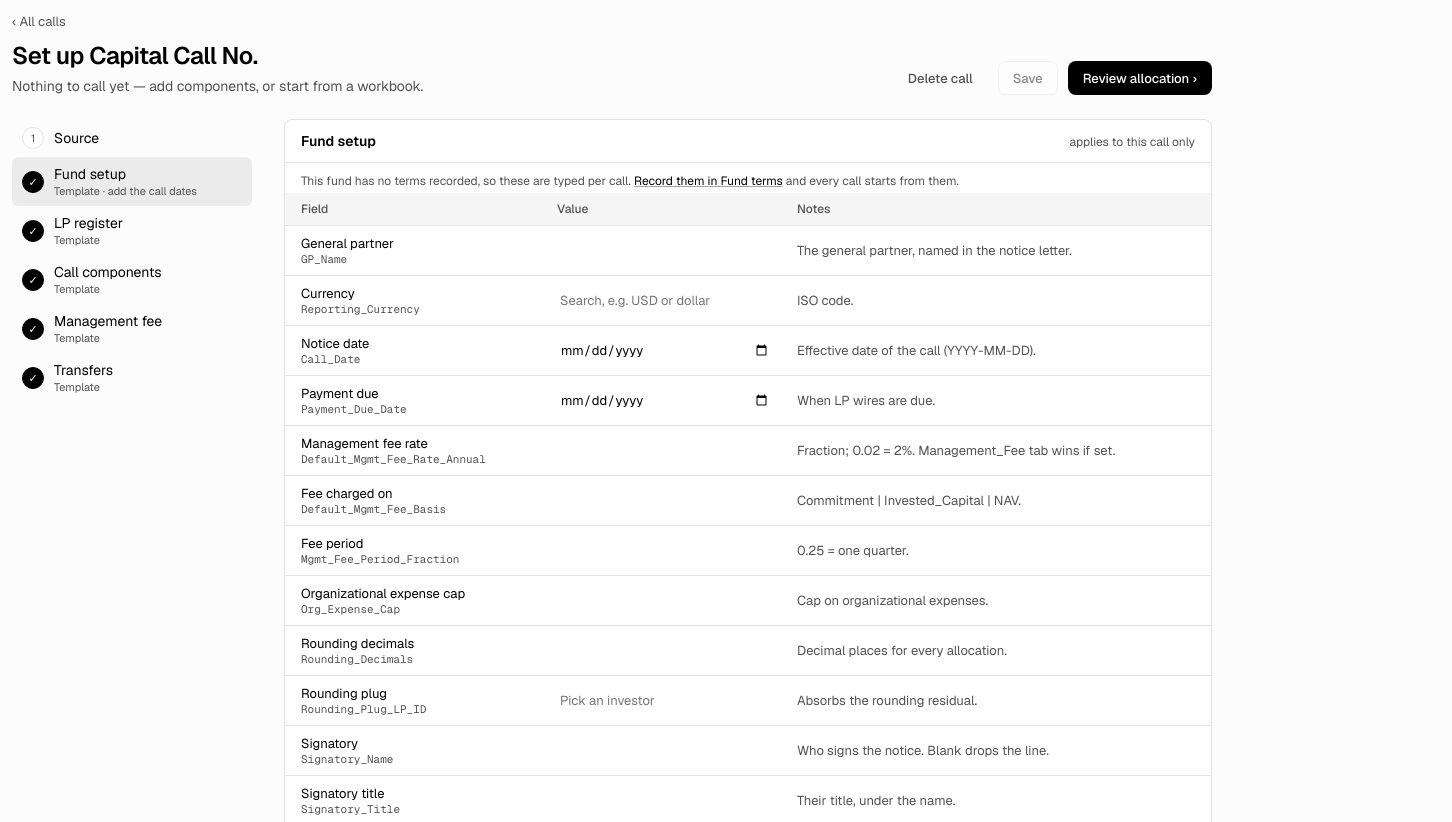
Test: the rounding plug, before the register is filled in › offers the fund’s investors
Click the dropdown named "Rounding_Plug_LP_ID" at (665, 700), box x1=551 y1=686 x2=779 y2=716
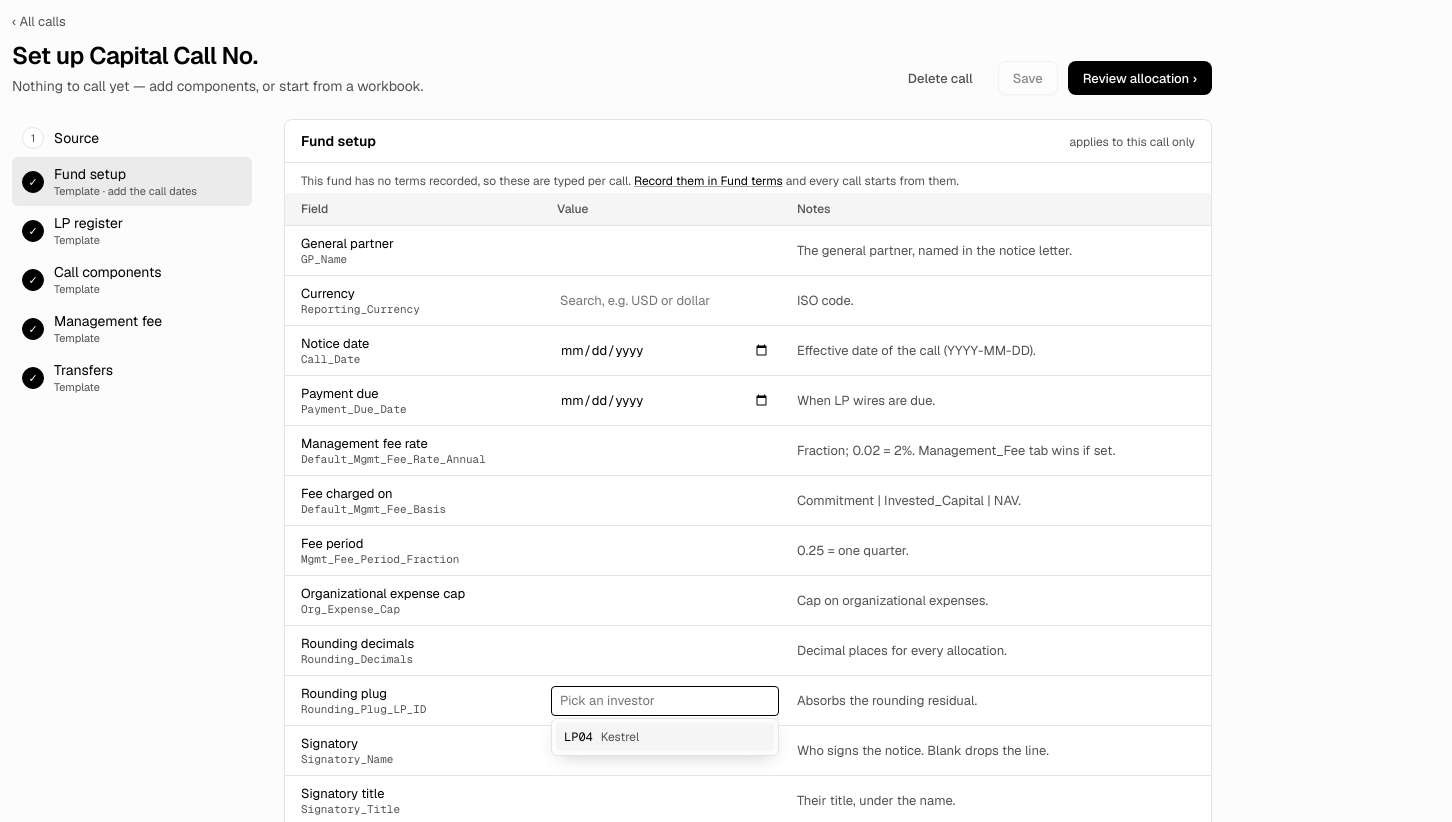
Now the text "Kestrel" is shown, box x1=601 y1=728 x2=639 y2=744
